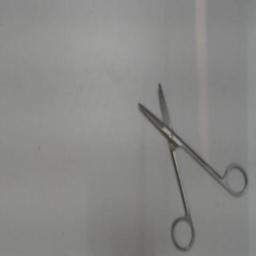Curved Mayo Scissors: (136, 73, 252, 255)
